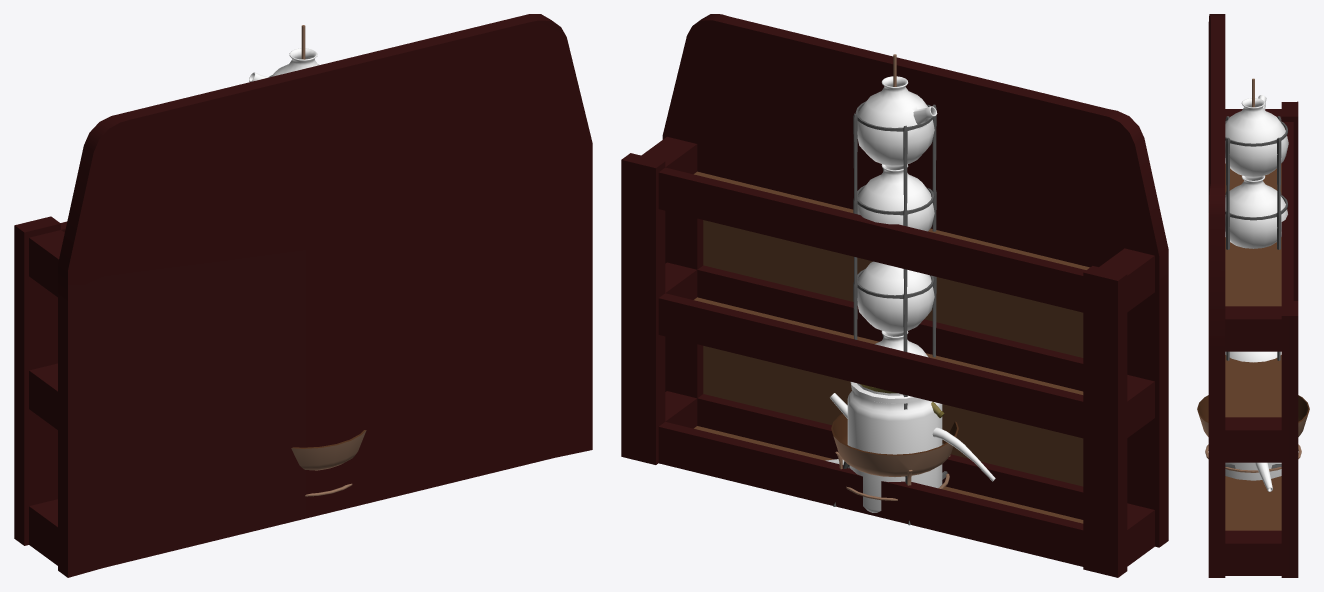
File: Alchemy.fbx
The picture shows the model from 3 angles, left to right: view 1: azimuth 30°, elevation 25°; view 2: azimuth 150°, elevation 25°; view 3: azimuth 270°, elevation 25°; orthographic projection. The views are drawn at different scales.
Parts seen in each view (by area): view 1: PotionRack, Calcinator-LOD0, AlchemyStack; view 2: PotionRack, AlchemyStack, Jar01Empty, StackStand, Calcinator-LOD0; view 3: PotionRack, AlchemyStack, StackStand, Calcinator-LOD0, Jar01Empty.
Boxes of the visible parts, left/top/right/bottom form: PotionRack: left=14, top=14, right=592, bottom=577; Calcinator-LOD0: left=291, top=430, right=366, bottom=496; AlchemyStack: left=249, top=48, right=319, bottom=81; PotionRack: left=621, top=14, right=1168, bottom=577; AlchemyStack: left=825, top=76, right=937, bottom=464; Jar01Empty: left=847, top=382, right=942, bottom=512; StackStand: left=833, top=101, right=947, bottom=525; Calcinator-LOD0: left=831, top=413, right=958, bottom=500; PotionRack: left=1208, top=14, right=1298, bottom=577; AlchemyStack: left=1225, top=95, right=1288, bottom=491; StackStand: left=1225, top=116, right=1287, bottom=468; Calcinator-LOD0: left=1197, top=395, right=1309, bottom=472; Jar01Empty: left=1225, top=462, right=1281, bottom=480.
Size of what is drawn, in the model's own units: 1.25 by 1.07 by 0.2774.
